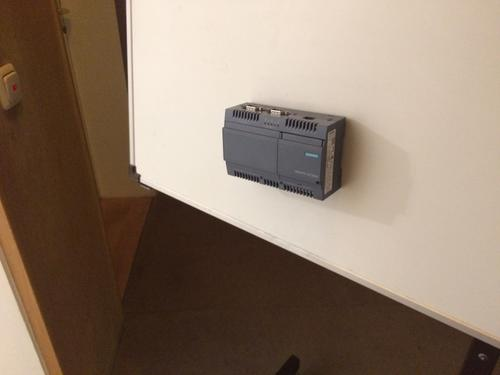iot2000: (222, 101, 348, 203)
